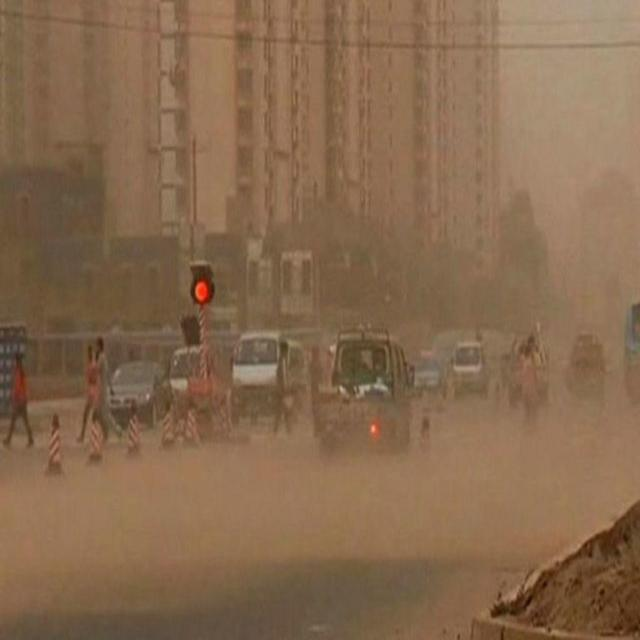Truck: (316, 333, 417, 446), (230, 332, 304, 433)
